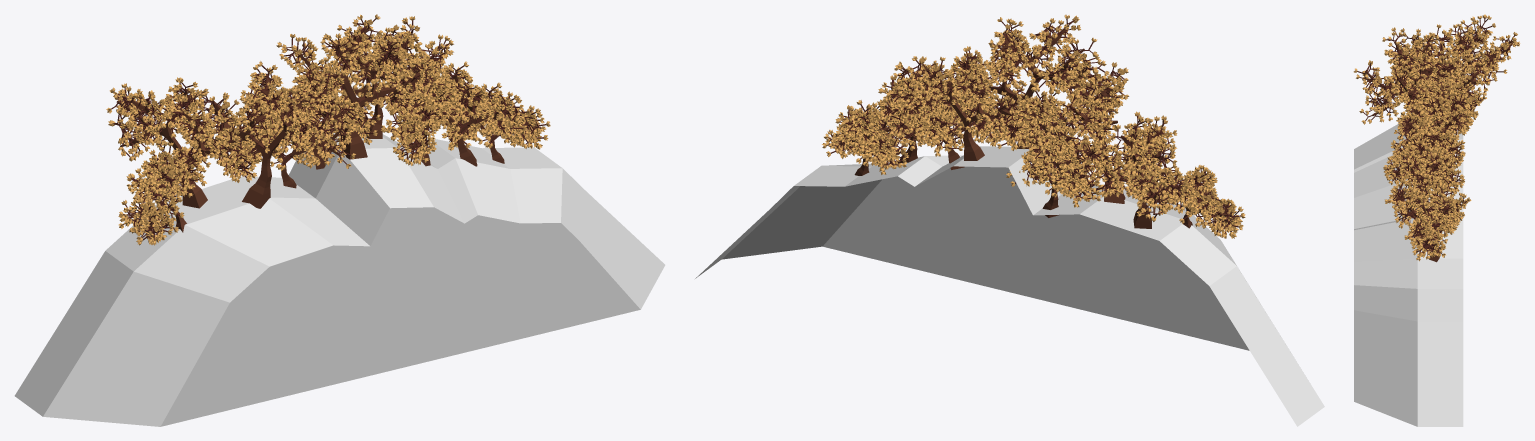
File: trees.fbx
3 views of the same model, side by side, from view 1: azimuth 30°, elevation 25°; view 2: azimuth 150°, elevation 25°; view 3: azimuth 270°, elevation 25° (orthographic). The views are drawn at different scales.
Visible parts, largest first — view 1: Cube.013, Cube.026, Cube.015, Cube.024, Cube.018, Cube.014; view 2: Cube.013, Cube.014, Cube.015, Cube.026, Cube.024; view 3: Cube.013, Cube.015, Cube.024, Cube.026, Cube.018.
Part boxes in pixels (<box>): Cube.013: <box>14,133,665,426</box>; Cube.026: <box>204,73,345,208</box>; Cube.015: <box>295,27,432,159</box>; Cube.024: <box>116,89,243,208</box>; Cube.018: <box>404,73,516,166</box>; Cube.014: <box>341,32,442,139</box>; Cube.013: <box>695,146,1324,426</box>; Cube.014: <box>908,61,1016,160</box>; Cube.015: <box>969,28,1092,148</box>; Cube.026: <box>1069,66,1125,203</box>; Cube.024: <box>1120,125,1163,228</box>; Cube.013: <box>1354,124,1463,426</box>; Cube.015: <box>1395,37,1433,148</box>; Cube.024: <box>1434,26,1510,75</box>; Cube.026: <box>1365,48,1477,115</box>; Cube.018: <box>1395,156,1455,233</box>.
Size of the model in its own units: 7784 by 3902 by 2255.
